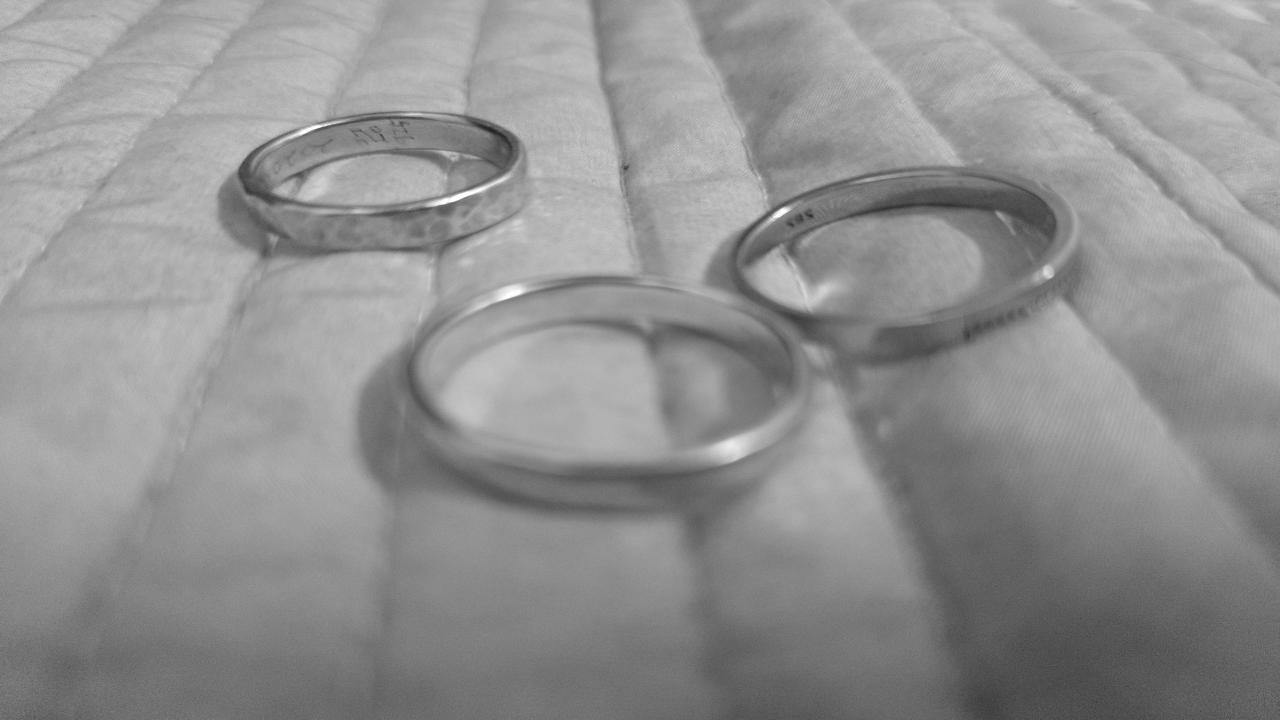ring: (405, 277, 815, 496), (732, 167, 1087, 355), (237, 110, 532, 250)
